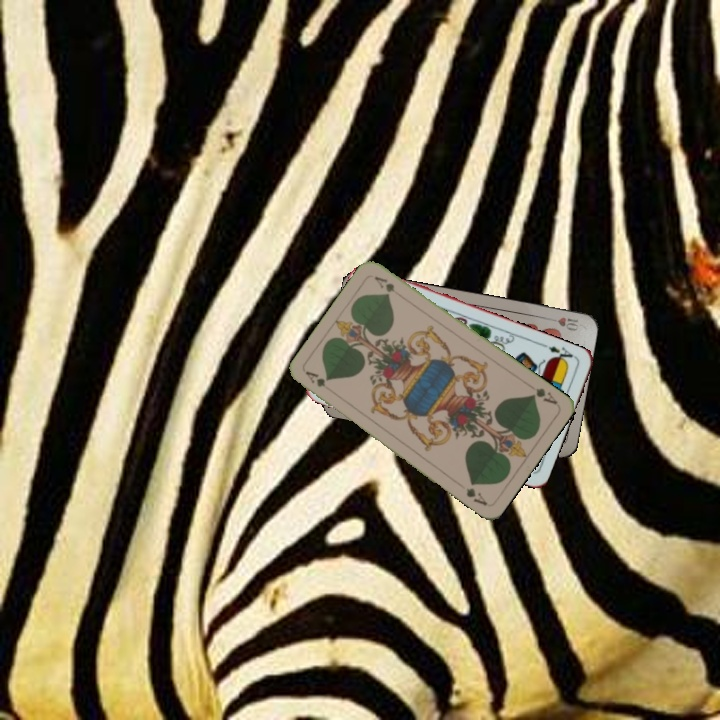EA: (540, 340, 579, 366)
GA: (301, 367, 337, 396), (524, 380, 560, 407)
H10: (542, 313, 581, 334)
